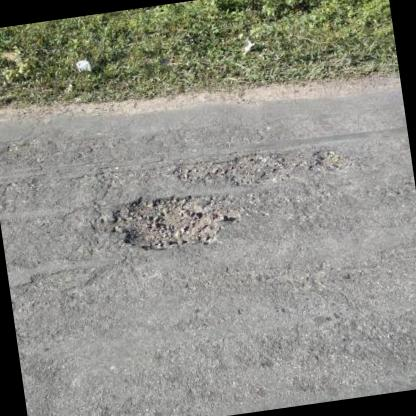pothole: (102, 183, 234, 259), (170, 144, 300, 195), (303, 144, 358, 178)
